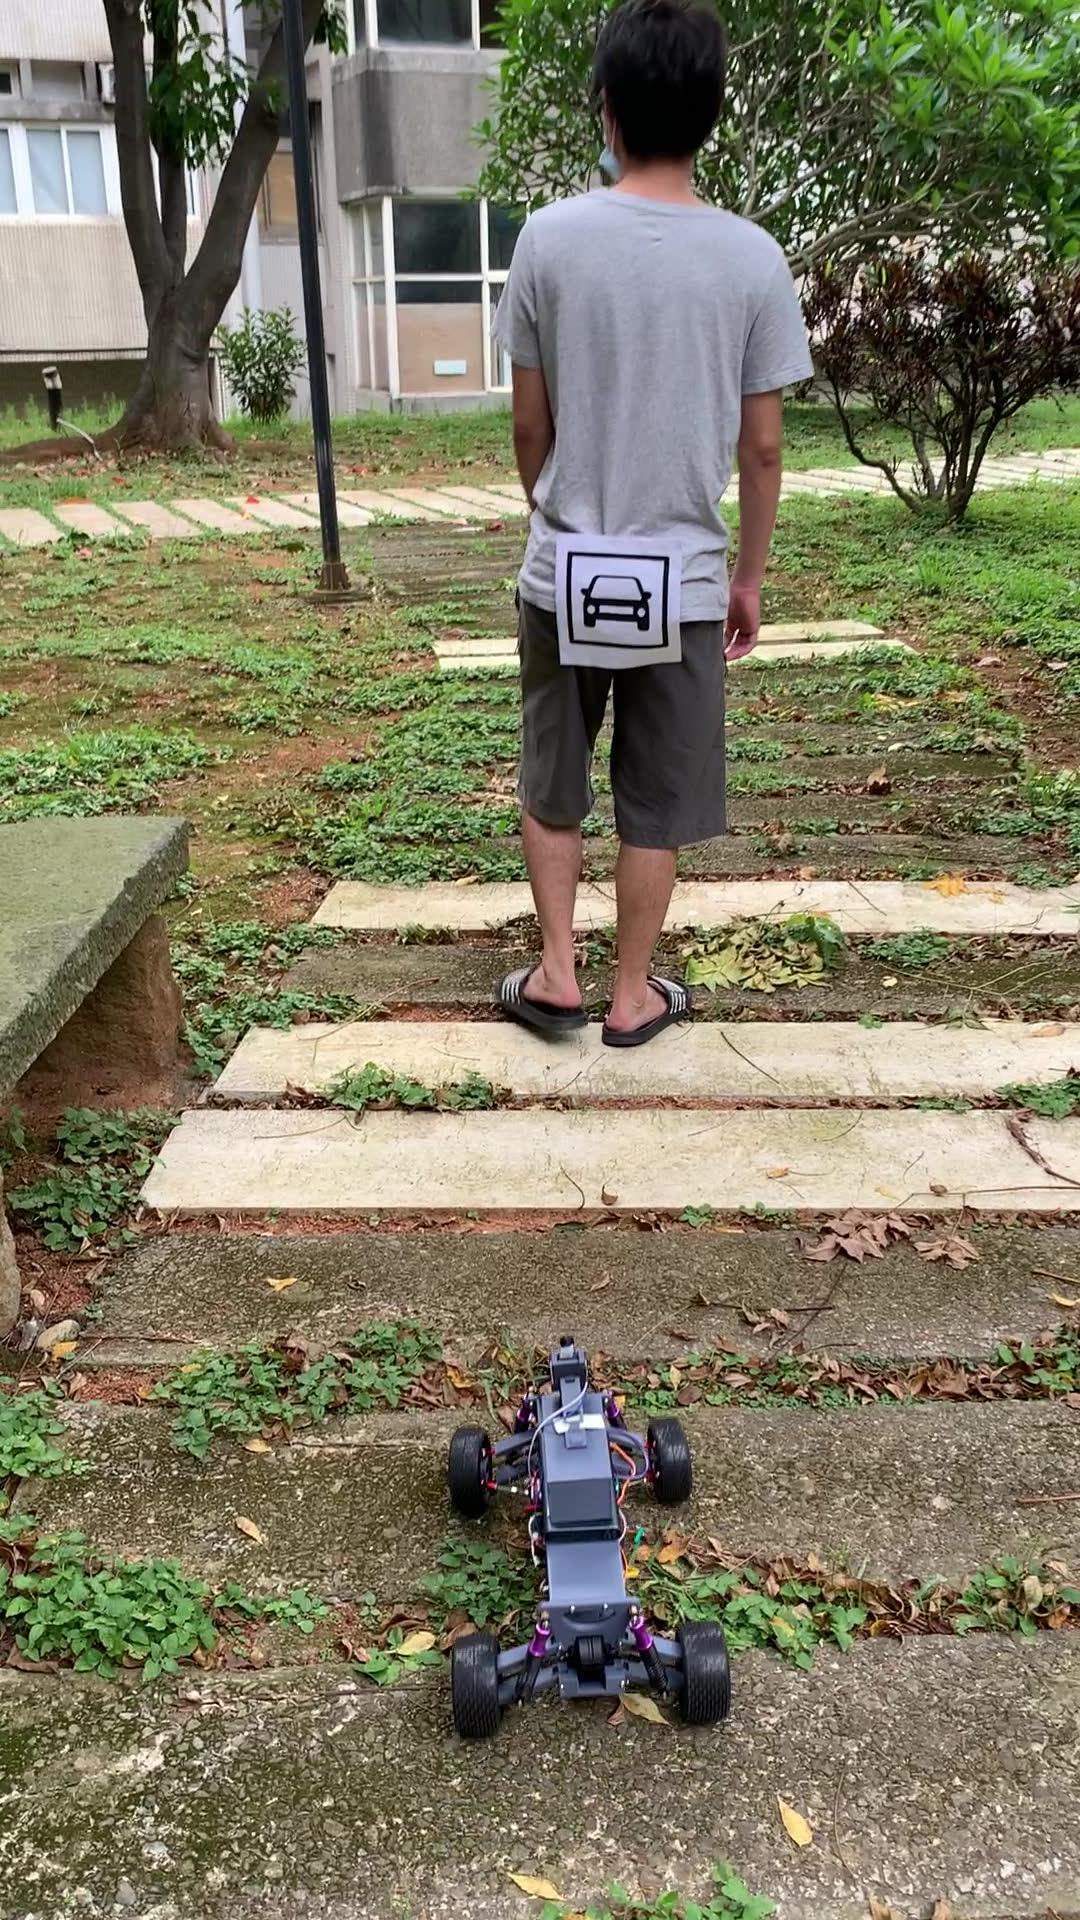car_img: (567, 551, 670, 650)
